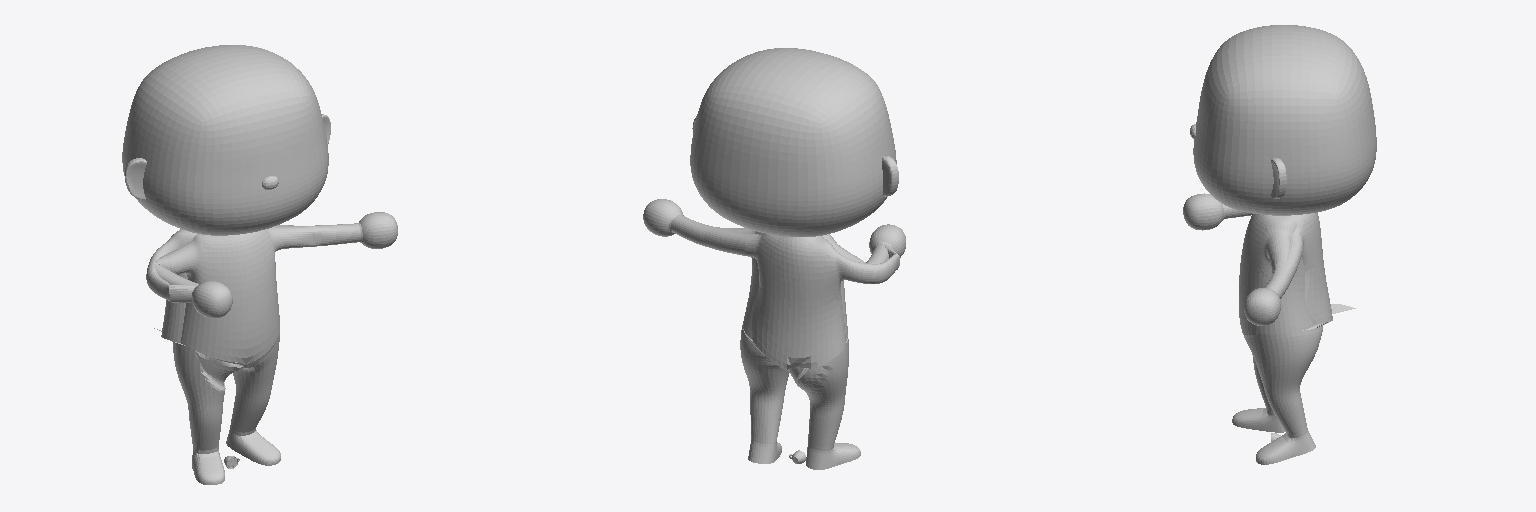
The model's file is Brioche with empty hand or working.obj.
3 views of the same model, side by side, from view 1: azimuth 30°, elevation 25°; view 2: azimuth 150°, elevation 25°; view 3: azimuth 270°, elevation 25° (orthographic).
Parts seen in each view (by area): view 1: Cube.001, Cube.002, Cube.003, Cube.008, Cube.005, Cube.004; view 2: Cube.001, Cube.002, Cube.003, Cube.008, Cube.004, Cube.005; view 3: Cube.001, Cube.002, Cube.003, Cube.008, Cube.005, Cube.004.
Part boxes in pixels (left/top/right/bottom): Cube.001: left=122, top=45, right=330, bottom=235; Cube.002: left=146, top=223, right=360, bottom=367; Cube.003: left=173, top=334, right=279, bottom=453; Cube.008: left=192, top=430, right=280, bottom=484; Cube.005: left=192, top=281, right=232, bottom=318; Cube.004: left=358, top=212, right=397, bottom=248; Cube.001: left=690, top=48, right=898, bottom=236; Cube.002: left=671, top=215, right=899, bottom=382; Cube.003: left=740, top=325, right=848, bottom=450; Cube.008: left=748, top=440, right=860, bottom=469; Cube.004: left=643, top=199, right=683, bottom=236; Cube.005: left=869, top=224, right=905, bottom=257; Cube.001: left=1190, top=25, right=1376, bottom=215; Cube.002: left=1225, top=206, right=1355, bottom=337; Cube.003: left=1244, top=326, right=1322, bottom=438; Cube.008: left=1232, top=408, right=1315, bottom=464; Cube.005: left=1183, top=193, right=1224, bottom=230; Cube.004: left=1244, top=288, right=1280, bottom=325.
Size of the model in its own units: 2.13 by 3.15 by 1.36.